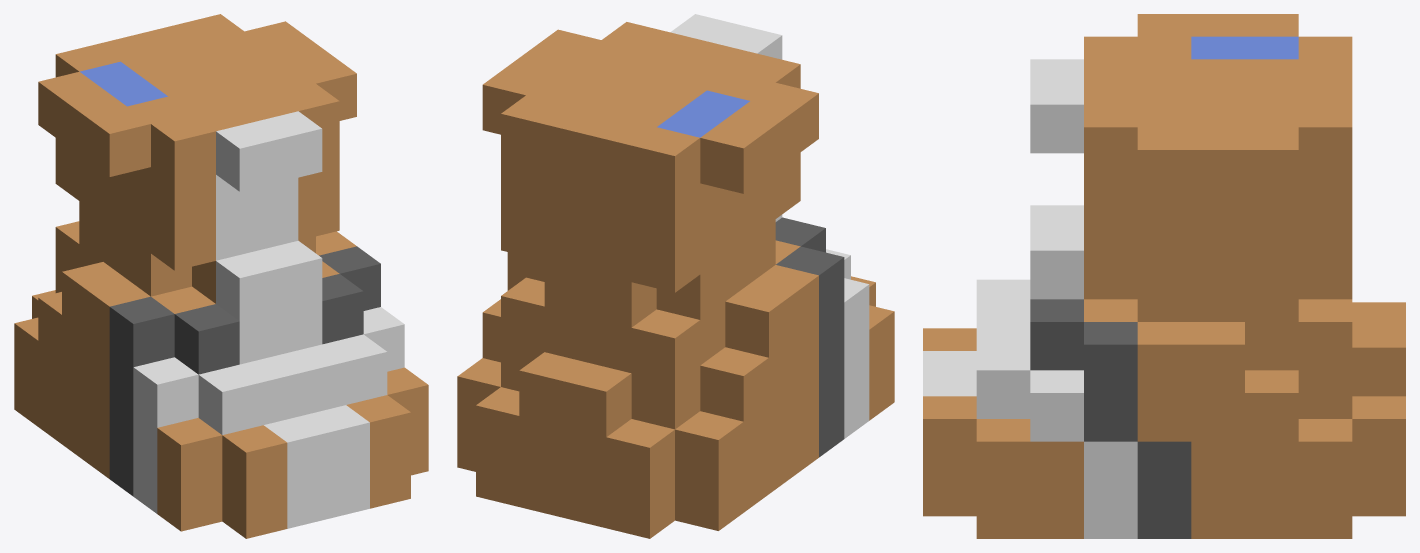
The model's file is FKnightLegLowerL.fbx.
3 views of the same model, side by side, from view 1: azimuth 30°, elevation 25°; view 2: azimuth 150°, elevation 25°; view 3: azimuth 270°, elevation 25° (orthographic). The views are drawn at different scales.
Parts seen in each view (by area): view 1: FemKnightBody_part_3; view 2: FemKnightBody_part_3; view 3: FemKnightBody_part_3.
Part boxes in pixels (x1,y1,x2,y2): FemKnightBody_part_3: (14,14,428,538); FemKnightBody_part_3: (457,14,894,538); FemKnightBody_part_3: (923,14,1405,538).
Bounding box in the file's own units: 6 × 8 × 9.
Materials: 1 (1 with a texture image).
